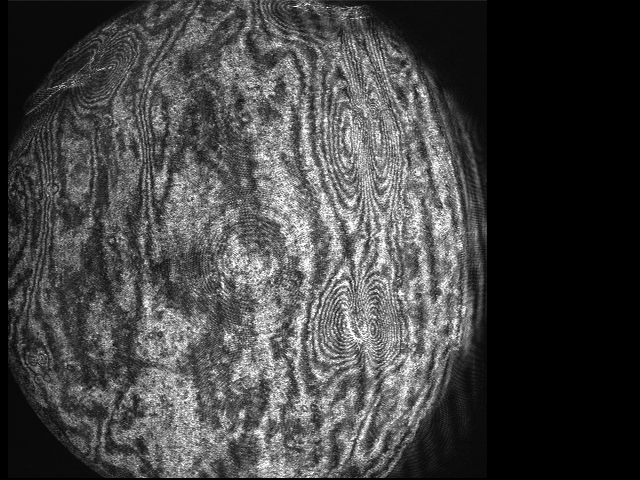plume: (319, 272, 405, 371)
